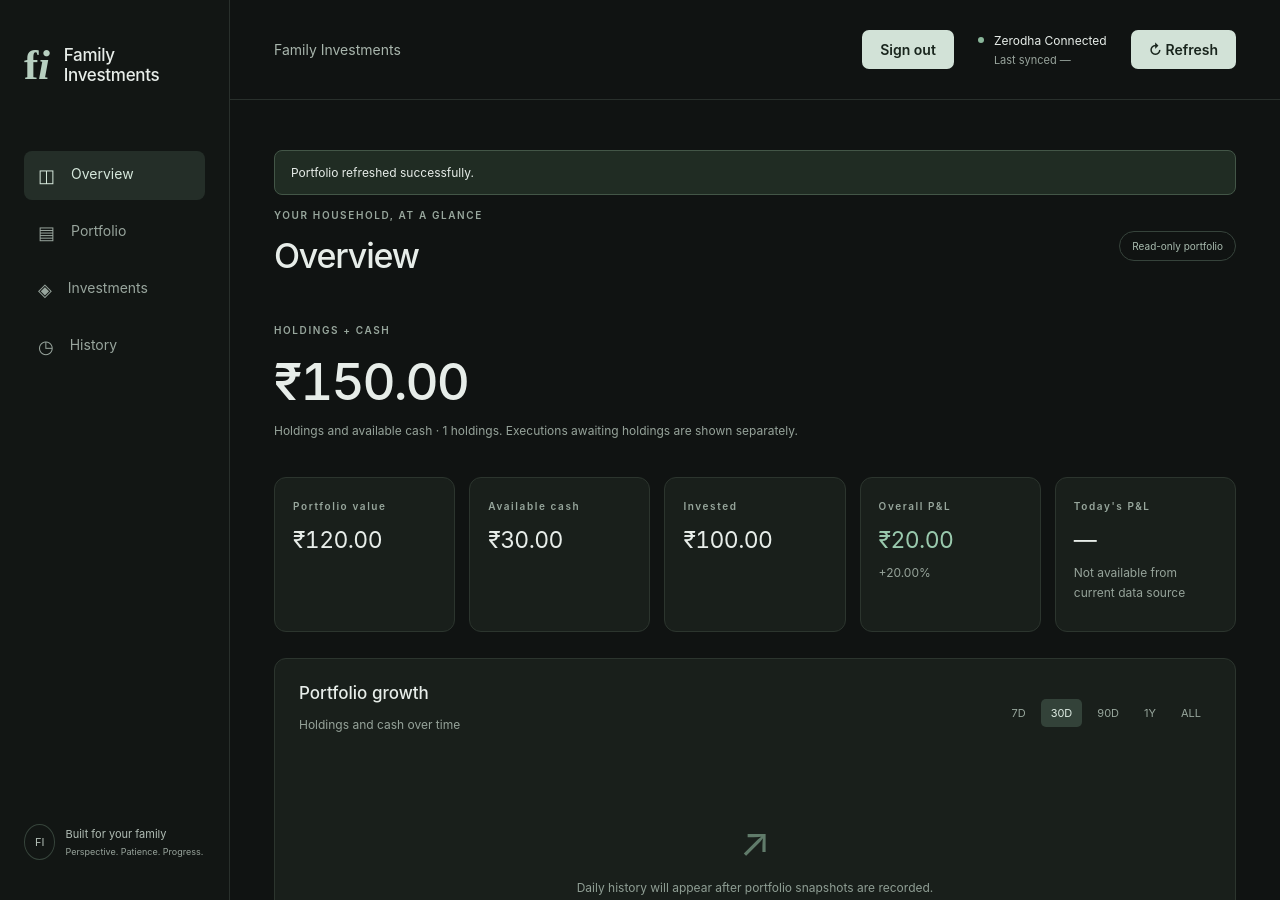
Test case: auto-refreshes stale connected data only once
Expected: the text "Portfolio refreshed successfully." is shown, [274,150,1236,195]
Step 1. Click the link "◷ History" → (78, 346), box [38,336,117,357]
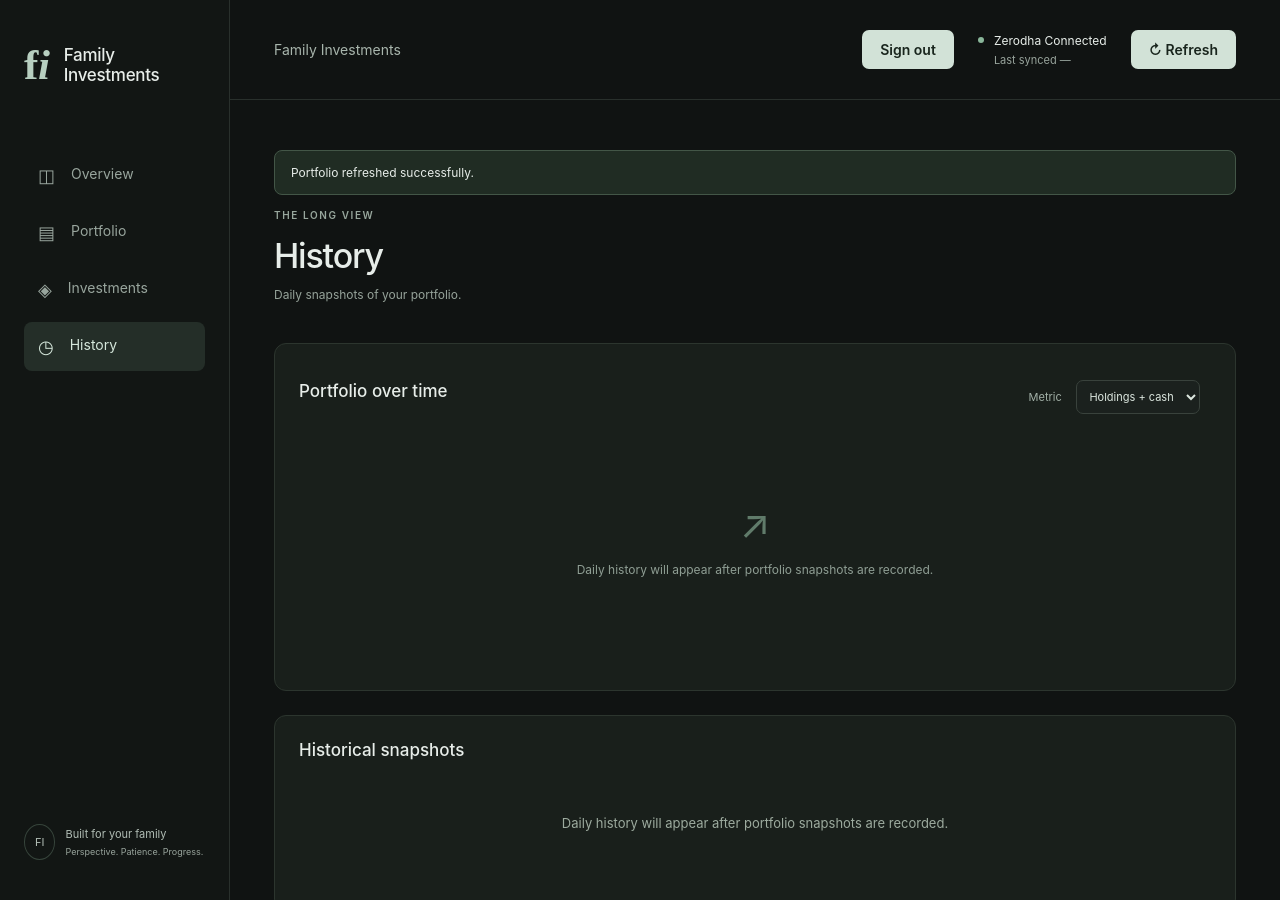
Expected: the heading "History" is shown, [274,235,383,276]
